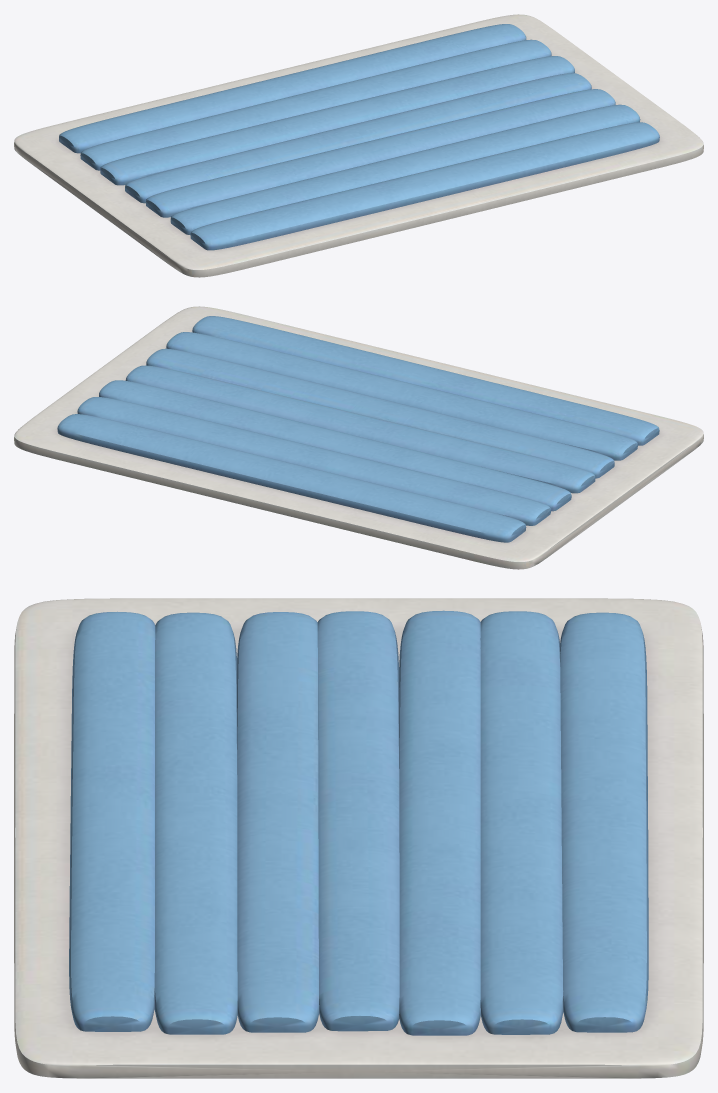
Rendered from alfombrilla_bano.glb.
The picture shows the model from 3 angles, top to bottom: view 1: azimuth 30°, elevation 25°; view 2: azimuth 150°, elevation 25°; view 3: azimuth 270°, elevation 25°; orthographic projection. The views are drawn at different scales.
Visible parts, largest first — view 1: bath-mat_body; view 2: bath-mat_body; view 3: bath-mat_body.
Boxes of the visible parts, bbox=[...] form: bath-mat_body: bbox=[14, 14, 703, 277]; bath-mat_body: bbox=[14, 306, 703, 569]; bath-mat_body: bbox=[14, 598, 703, 1078].
Size of the model in its own units: 0.8 by 0.03 by 0.5.
Materials: 1 (1 with a texture image).
